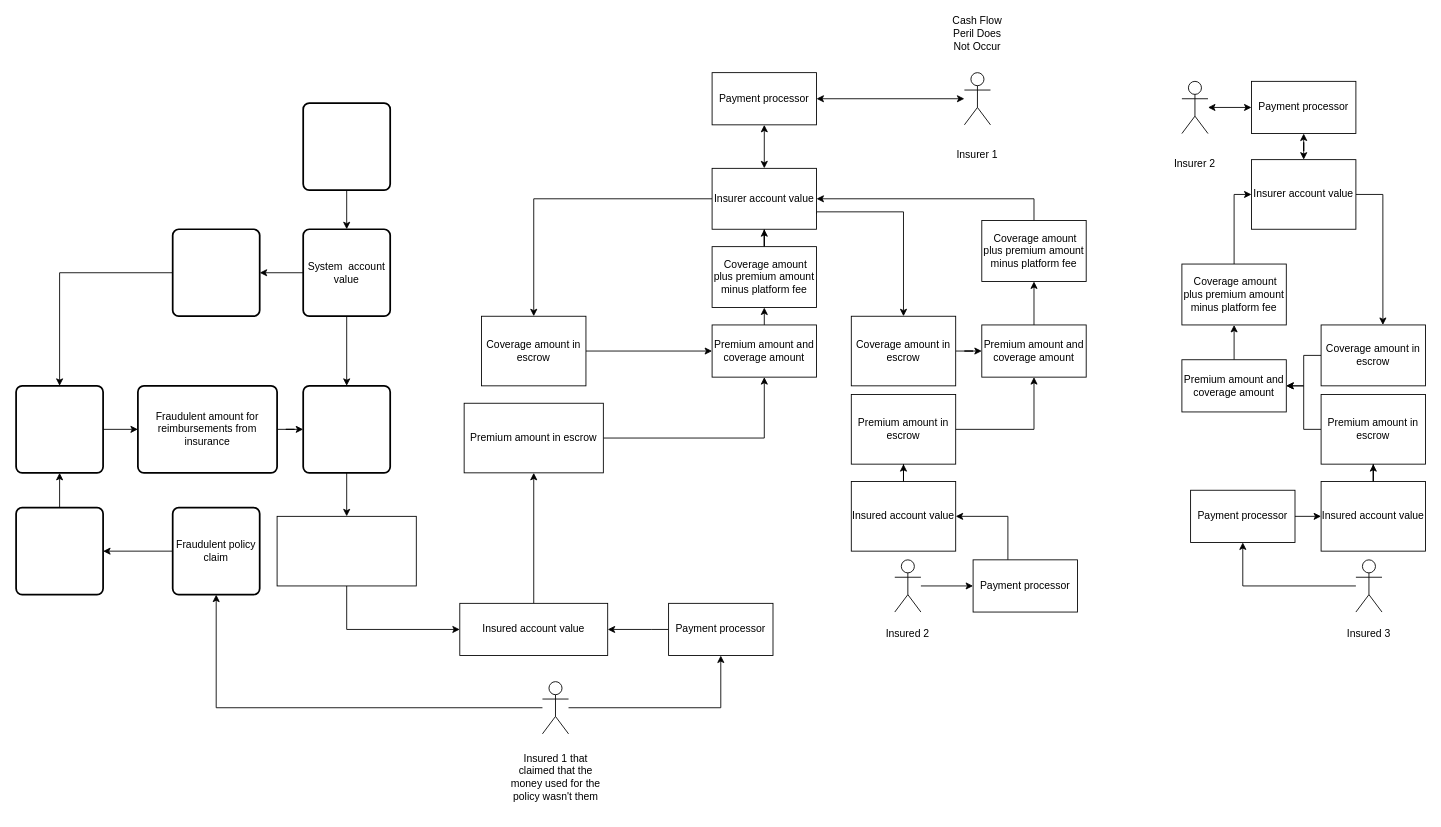
The diagram is 1441 pixels wide and 827 high, and some of its shapes have lost their labels. The shapes that lost their labels are listed below. From the top down, each one's centre as x and y in pixels, then its label:
At (346,146): "Platform user fees".
At (215,272): "Insurance policy payments".
At (59,429): "Outside Insurance".
At (346,429): "System cash reserve".
At (59,550): "Claim generated by the system".
At (346,550): "Fraudulent Insured coverage amount".
